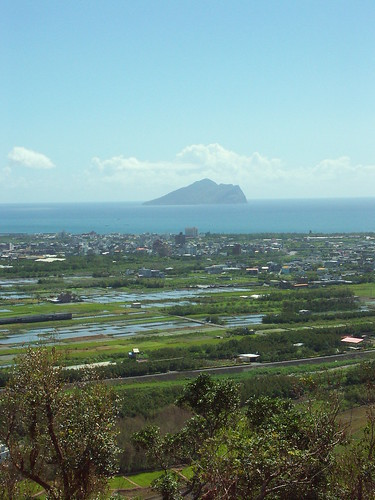turtleIsland: (140, 178, 249, 203)
